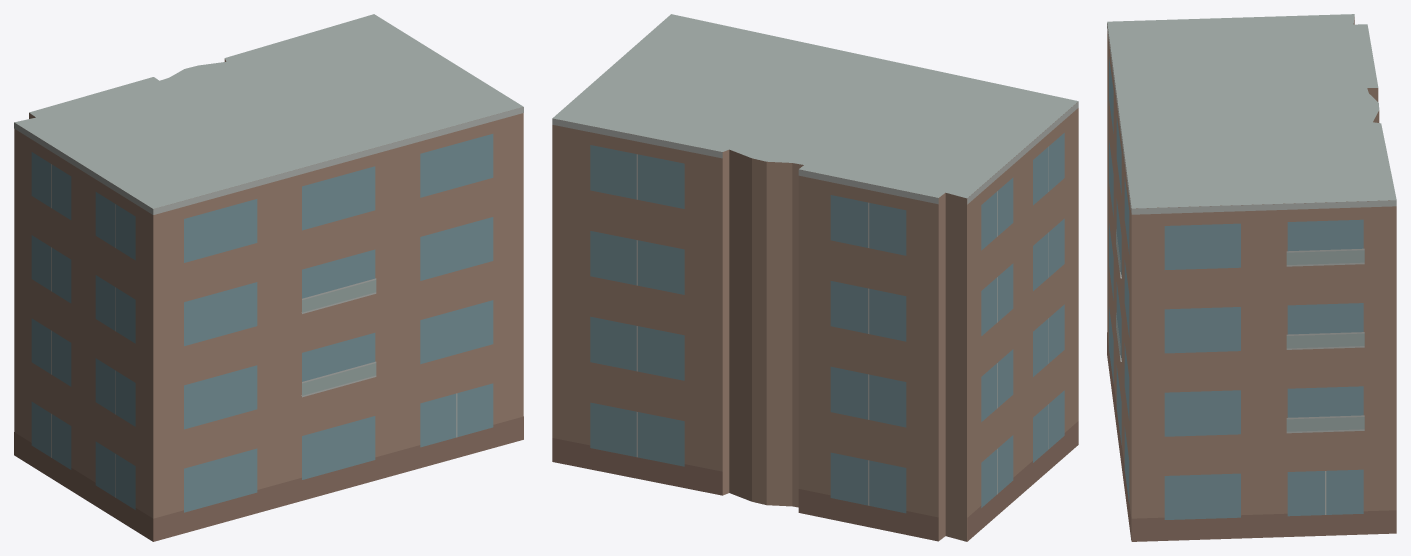
Rendered from survey-upis-32982762.glb.
3 renders of one model, left to right at view 1: azimuth 30°, elevation 25°; view 2: azimuth 150°, elevation 25°; view 3: azimuth 270°, elevation 25°, orthographic. The views are drawn at different scales.
Parts seen in each view (by area): view 1: survey-upis-32982762.tmp; view 2: survey-upis-32982762.tmp; view 3: survey-upis-32982762.tmp.
Part boxes in pixels (<box>): survey-upis-32982762.tmp: <box>14,14,523,541</box>; survey-upis-32982762.tmp: <box>552,14,1078,541</box>; survey-upis-32982762.tmp: <box>1107,14,1396,541</box>.
Size of the model in its own units: 16.54 by 13.2 by 10.41.
